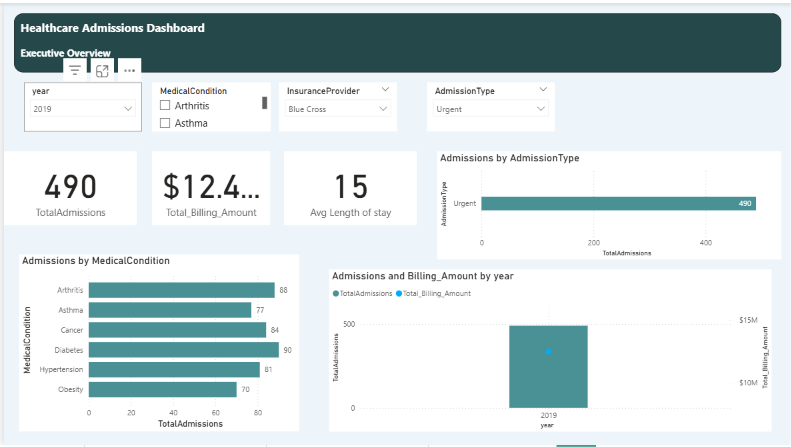

What the dashboard file says about the page in this screenshot:
{"tool":"powerbi","page":{"name":"Executive Overview","canvas":[1280,720],"ordinal":0},"visuals":[{"type":"textbox","box":[16,16,1248,96],"z":0},{"type":"card","fields":{"Values":["_Measures.TotalAdmissions"]},"box":[0,240,216,120],"z":1000},{"type":"card","fields":{"Values":["_Measures.Total_Billing_Amount"]},"box":[240,240,192,120],"z":2000},{"type":"card","fields":{"Values":["_Measures.Average_LengthOfStay"]},"box":[456,240,216,120],"z":3000},{"type":"barChart","title":"Admissions by MedicalCondition","fields":{"Category":["FactAdmissions.MedicalCondition"],"Y":["_Measures.TotalAdmissions"]},"box":[24,408,456,288],"z":4000},{"type":"barChart","title":"Admissions by AdmissionType","fields":{"Category":["Dim_AdmissionType.AdmissionType"],"Y":["_Measures.TotalAdmissions"]},"box":[704,240,560,176],"z":5000},{"type":"slicer","fields":{"Values":["Dim_Date.year"]},"box":[32,128,192,80],"z":6000},{"type":"slicer","fields":{"Values":["Dim_AdmissionType.AdmissionType"]},"box":[688,128,208,80],"z":7000},{"type":"slicer","fields":{"Values":["Dim_MedicalCondition.MedicalCondition"]},"box":[240,128,192,80],"z":8000},{"type":"slicer","fields":{"Values":["Dim_Insurance.InsuranceProvider"]},"box":[448,128,192,80],"z":9000},{"type":"lineStackedColumnComboChart","title":"Admissions and Billing_Amount by year","fields":{"Y":["_Measures.TotalAdmissions"],"Category":["Dim_Date.Quarter","Dim_Date.year","Dim_Date.Month"],"Y2":["_Measures.Total_Billing_Amount"]},"box":[528,432,720,264],"z":10000}]}

Visuals, with their boxes on the page's 1280x720 design canvas (x1, y1, x2, y2). These are canvas units, not pixel positions in the 791x447 screenshot, which may show the page scaled, cropped or inside an application window:
textbox: {"x1": 16, "y1": 16, "x2": 1264, "y2": 112}
card - _Measures.TotalAdmissions: {"x1": 0, "y1": 240, "x2": 216, "y2": 360}
card - _Measures.Total_Billing_Amount: {"x1": 240, "y1": 240, "x2": 432, "y2": 360}
card - _Measures.Average_LengthOfStay: {"x1": 456, "y1": 240, "x2": 672, "y2": 360}
"Admissions by MedicalCondition" barChart: {"x1": 24, "y1": 408, "x2": 480, "y2": 696}
"Admissions by AdmissionType" barChart: {"x1": 704, "y1": 240, "x2": 1264, "y2": 416}
slicer - Dim_Date.year: {"x1": 32, "y1": 128, "x2": 224, "y2": 208}
slicer - Dim_AdmissionType.AdmissionType: {"x1": 688, "y1": 128, "x2": 896, "y2": 208}
slicer - Dim_MedicalCondition.MedicalCondition: {"x1": 240, "y1": 128, "x2": 432, "y2": 208}
slicer - Dim_Insurance.InsuranceProvider: {"x1": 448, "y1": 128, "x2": 640, "y2": 208}
"Admissions and Billing_Amount by year" lineStackedColumnComboChart: {"x1": 528, "y1": 432, "x2": 1248, "y2": 696}
